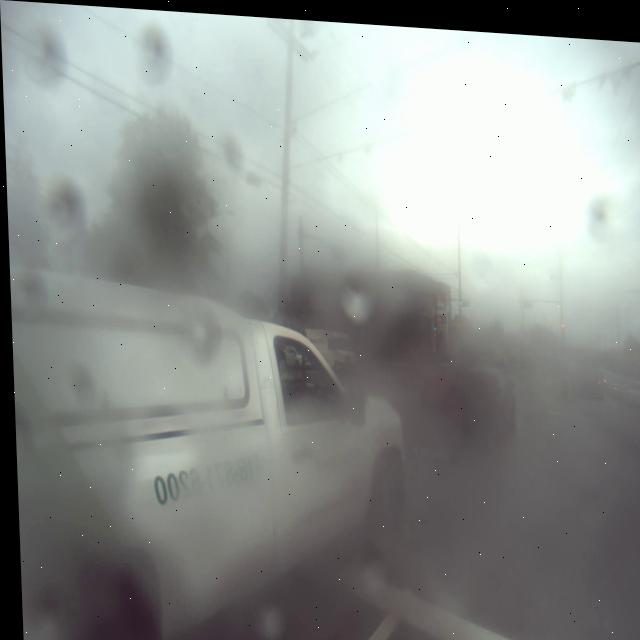car: (26, 279, 425, 633)
